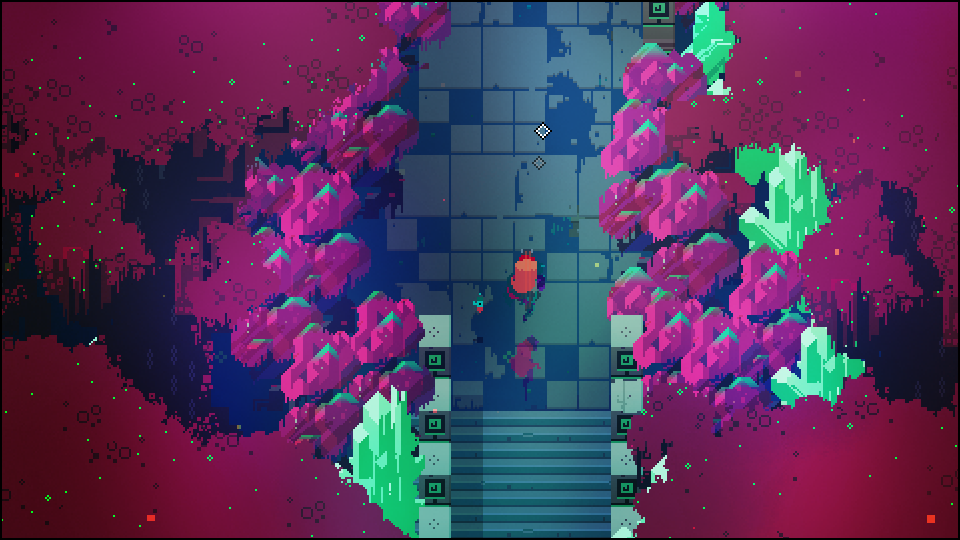player: (507, 248, 540, 305)
